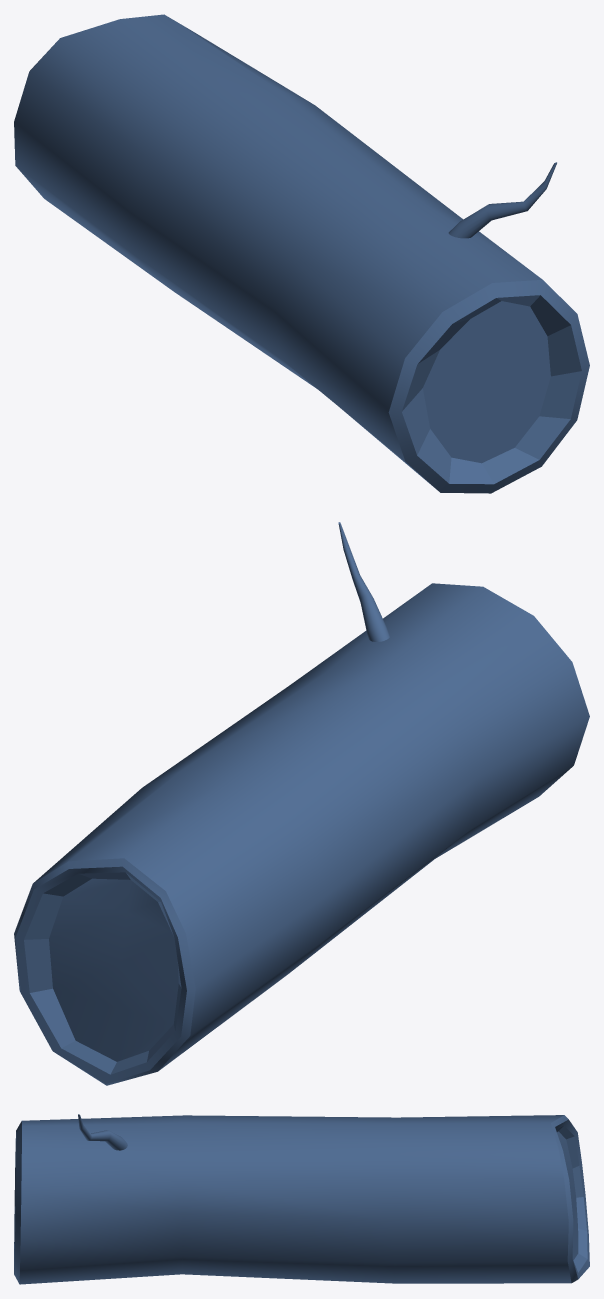
Rendered from log.fbx.
3 views of the same model, one above another, from view 1: azimuth 30°, elevation 25°; view 2: azimuth 150°, elevation 25°; view 3: azimuth 270°, elevation 25° (orthographic). The views are drawn at different scales.
Visible parts, largest first — view 1: log; view 2: log; view 3: log.
Part boxes in pixels (x1=…): log: x1=14, y1=14, x2=589, y2=493; log: x1=14, y1=522, x2=589, y2=1085; log: x1=14, y1=1114, x2=589, y2=1284.
Size of the model in its own units: 35.34 by 44.35 by 116.
